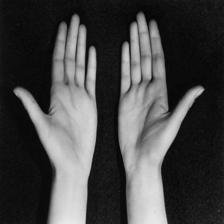Ladder: (48, 16, 164, 202)
